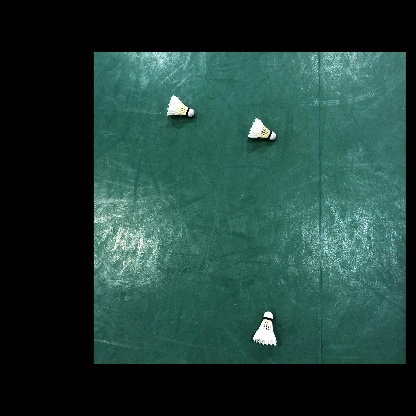ball_single: (253, 311, 276, 346), (248, 117, 276, 140), (167, 95, 195, 117)
